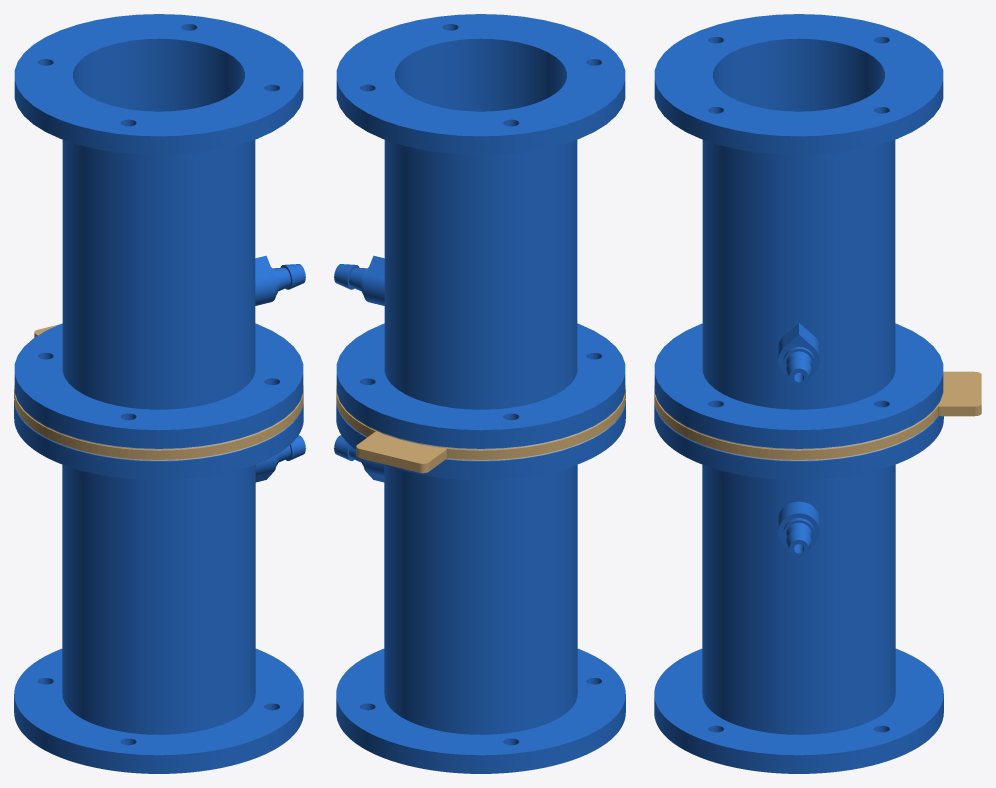
The model's file is m08_baugruppe.glb.
The picture shows the model from 3 angles, left to right: view 1: azimuth 30°, elevation 25°; view 2: azimuth 150°, elevation 25°; view 3: azimuth 270°, elevation 25°; orthographic projection.
Visible parts, largest first — view 1: M08-P01_2, M08-P01_1, M08-P03c_1, M08-P02_2; view 2: M08-P01_2, M08-P01_1, M08-P03c_1, M08-P02_2; view 3: M08-P01_2, M08-P01_1, M08-P03c_1, M08-P02_2, M08-P02_1.
Boxes of the visible parts, x1,y1,x2,y2 form: M08-P01_2: (14, 14, 303, 448); M08-P01_1: (14, 400, 303, 773); M08-P03c_1: (14, 324, 303, 459); M08-P02_2: (271, 264, 305, 294); M08-P01_2: (336, 14, 625, 448); M08-P01_1: (336, 400, 625, 773); M08-P03c_1: (336, 385, 625, 473); M08-P02_2: (334, 264, 368, 294); M08-P01_2: (654, 14, 943, 448); M08-P01_1: (654, 402, 943, 773); M08-P03c_1: (654, 371, 981, 459); M08-P02_2: (783, 346, 814, 386); M08-P02_1: (783, 518, 814, 557).
Bounding box in the file's own units: 89.5 × 204 × 95.
